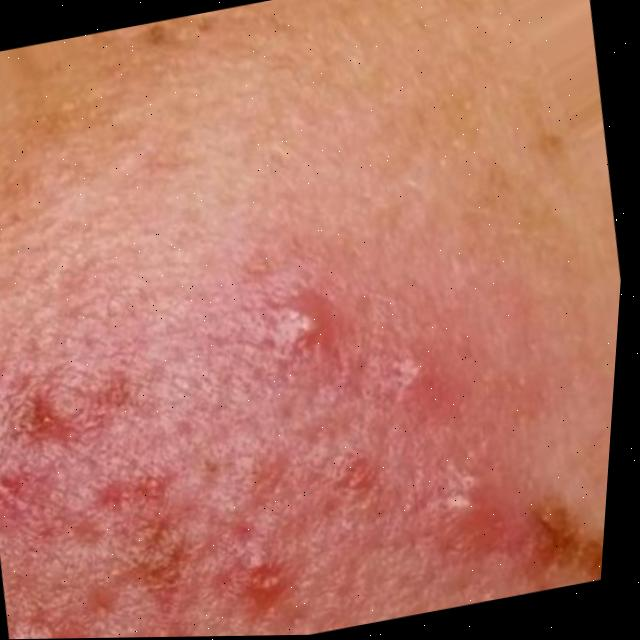Rosacea: (0, 233, 556, 640)
